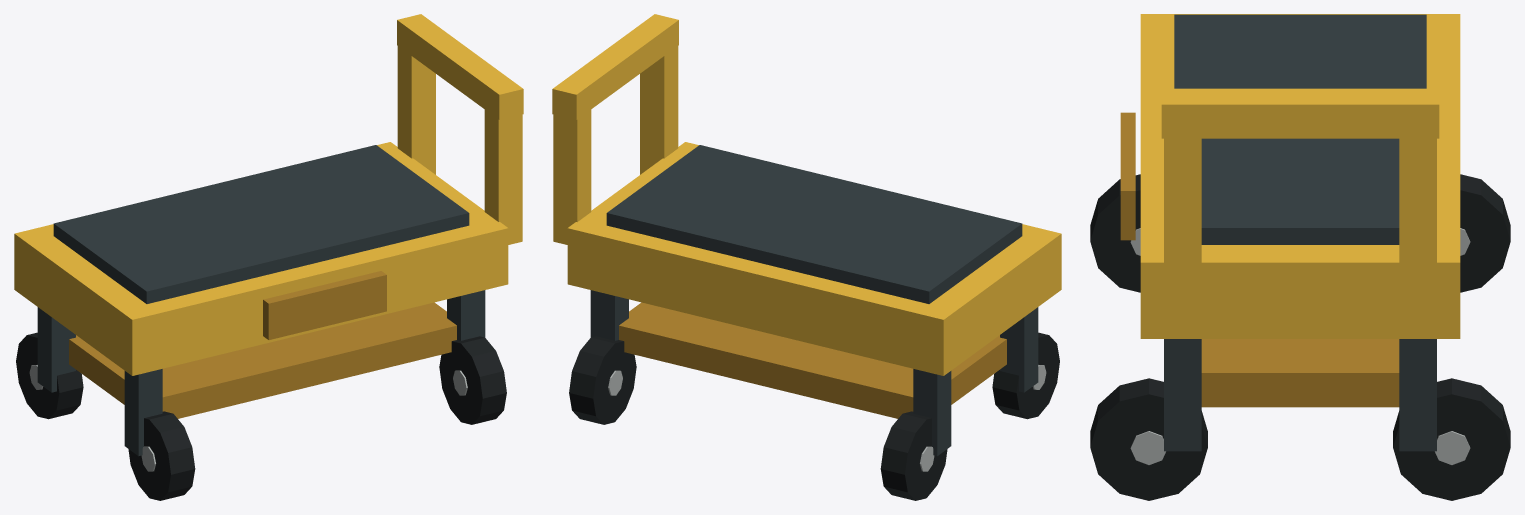
Rendered from salvage_cart.glb.
3 views of the same model, side by side, from view 1: azimuth 30°, elevation 25°; view 2: azimuth 150°, elevation 25°; view 3: azimuth 270°, elevation 25° (orthographic). The views are drawn at different scales.
Parts seen in each view (by area): view 1: cart_tray_inner, cart_tray, cart_lower_shelf, cart_push_bar, cart_caution_plate, cart_handle_post_l, cart_wheel_1_0, cart_handle_post_r, cart_wheel_0_0, cart_wheel_0_1, cart_leg_0_0, cart_leg_0_1 (+1 smaller); view 2: cart_tray, cart_tray_inner, cart_lower_shelf, cart_push_bar, cart_handle_post_r, cart_wheel_1_1, cart_handle_post_l, cart_wheel_0_1, cart_wheel_0_0, cart_leg_0_1, cart_leg_0_0, cart_leg_1_1; view 3: cart_tray_inner, cart_tray, cart_lower_shelf, cart_push_bar, cart_wheel_1_0, cart_wheel_1_1, cart_handle_post_l, cart_handle_post_r, cart_wheel_0_1, cart_leg_1_0, cart_leg_1_1, cart_wheel_0_0 (+3 smaller).
Part boxes in pixels (x1,y1,x2,y2): cart_tray_inner: [53, 145, 469, 303]; cart_tray: [14, 142, 508, 375]; cart_lower_shelf: [69, 302, 456, 418]; cart_push_bar: [397, 14, 523, 119]; cart_caution_plate: [263, 271, 386, 339]; cart_handle_post_l: [484, 91, 522, 244]; cart_wheel_1_0: [439, 336, 506, 424]; cart_handle_post_r: [397, 35, 435, 174]; cart_wheel_0_0: [128, 411, 195, 500]; cart_wheel_0_1: [16, 332, 83, 419]; cart_leg_0_0: [124, 369, 162, 456]; cart_leg_0_1: [37, 307, 75, 392]; cart_tray: [567, 142, 1061, 375]; cart_tray_inner: [606, 145, 1022, 303]; cart_lower_shelf: [619, 302, 1006, 418]; cart_push_bar: [552, 14, 678, 119]; cart_handle_post_r: [553, 91, 591, 244]; cart_wheel_1_1: [569, 336, 636, 424]; cart_handle_post_l: [640, 28, 678, 174]; cart_wheel_0_1: [880, 411, 947, 500]; cart_wheel_0_0: [992, 332, 1059, 419]; cart_leg_0_1: [913, 369, 951, 456]; cart_leg_0_0: [1000, 307, 1038, 392]; cart_leg_1_1: [590, 290, 628, 340]; cart_tray_inner: [1174, 14, 1426, 244]; cart_tray: [1140, 14, 1460, 338]; cart_lower_shelf: [1201, 339, 1399, 407]; cart_push_bar: [1161, 88, 1439, 138]; cart_wheel_1_0: [1090, 378, 1207, 500]; cart_wheel_1_1: [1393, 378, 1510, 500]; cart_handle_post_l: [1164, 114, 1201, 312]; cart_handle_post_r: [1399, 114, 1436, 312]; cart_wheel_0_1: [1460, 174, 1510, 292]; cart_leg_1_0: [1164, 339, 1201, 451]; cart_leg_1_1: [1399, 339, 1436, 451]; cart_wheel_0_0: [1090, 174, 1140, 292].
Bounding box in the file's own units: 0.7425 × 0.5575 × 0.5.
